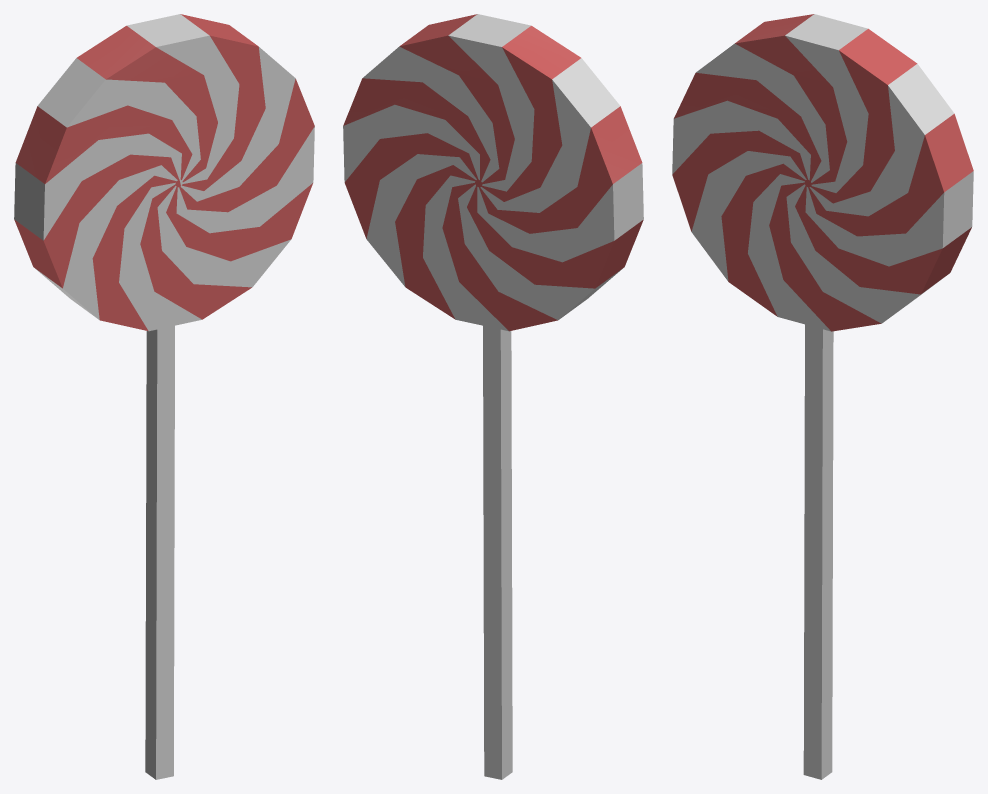
File: lollipop.fbx
3 renders of one model, left to right at view 1: azimuth 30°, elevation 25°; view 2: azimuth 150°, elevation 25°; view 3: azimuth 330°, elevation 25°, orthographic.
Parts seen in each view (by area): view 1: lollipop; view 2: lollipop; view 3: lollipop.
Part boxes in pixels (bbox=[...]): lollipop: bbox=[14, 14, 314, 779]; lollipop: bbox=[343, 14, 643, 779]; lollipop: bbox=[672, 14, 973, 779].
Bounding box in the file's own units: 0.0916 × 0.2396 × 0.0173.
